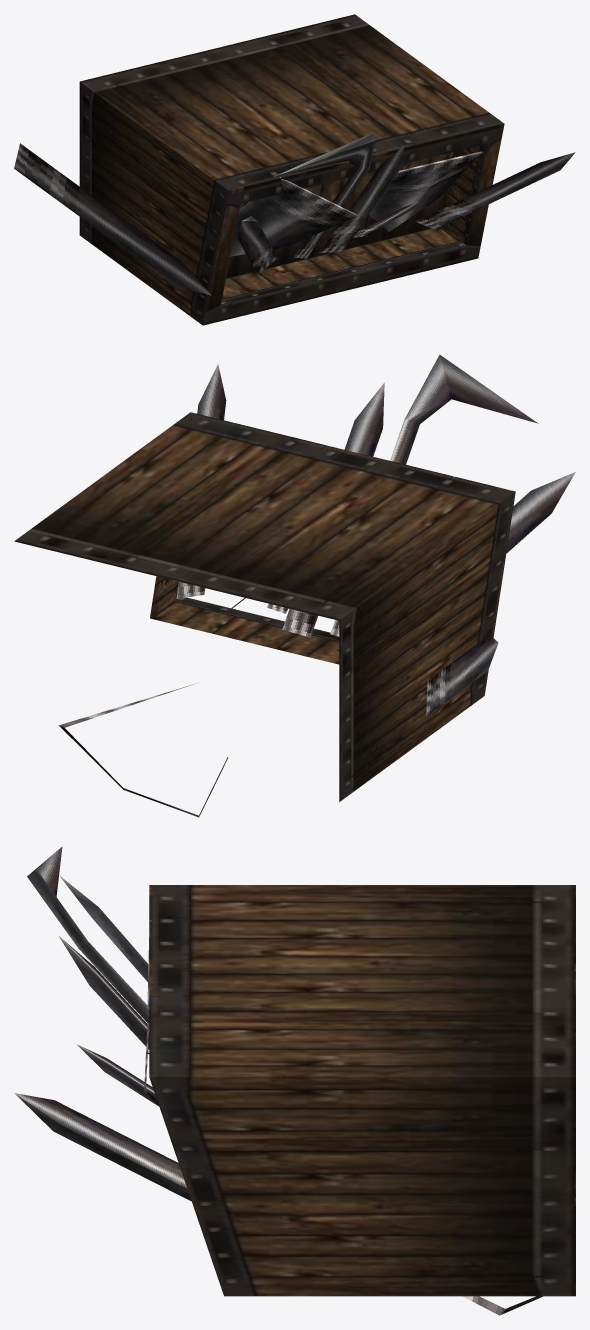
File: House02.glb
3 renders of one model, top to bottom at view 1: azimuth 30°, elevation 25°; view 2: azimuth 150°, elevation 25°; view 3: azimuth 270°, elevation 25°, orthographic. The views are drawn at different scales.
Visible parts, largest first — view 1: model_House02; view 2: model_House02; view 3: model_House02.
Part boxes in pixels (box(x1,y1,x2,y2)): model_House02: box(14, 14, 575, 325); model_House02: box(14, 355, 575, 817); model_House02: box(14, 847, 575, 1315).
Size of the model in its own units: 2.04 by 1.37 by 1.89.
Materials: 2 (2 with a texture image).
